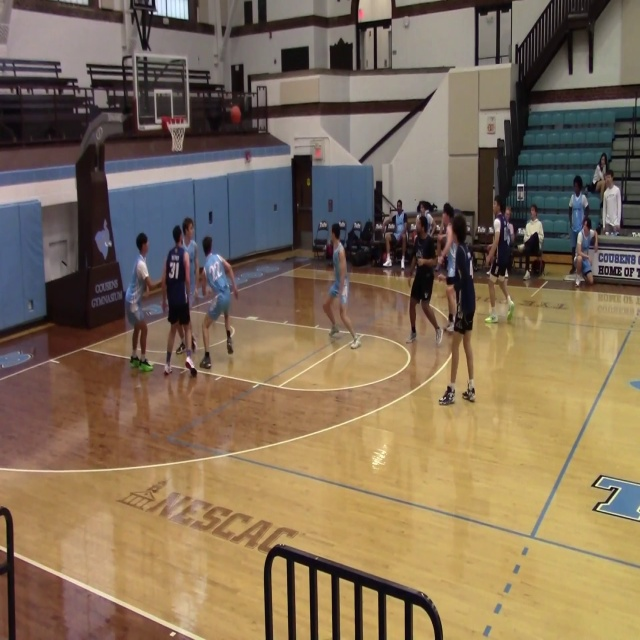Basketball: (230, 105, 241, 124)
